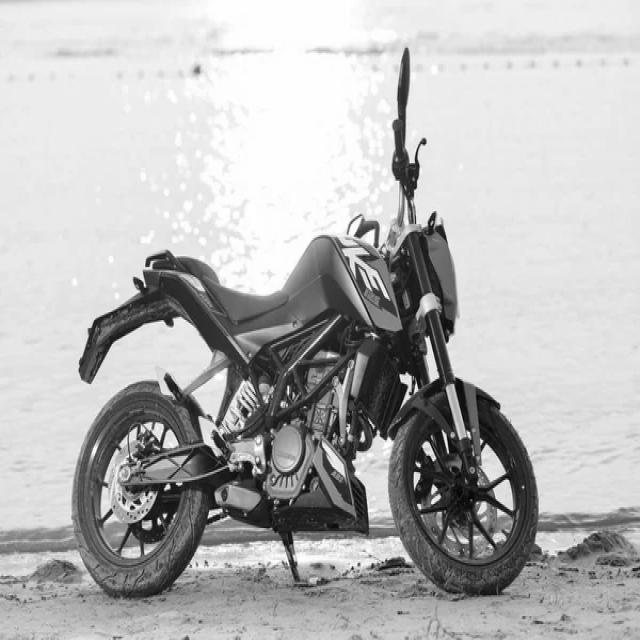Motorcycle: (71, 48, 540, 596)
